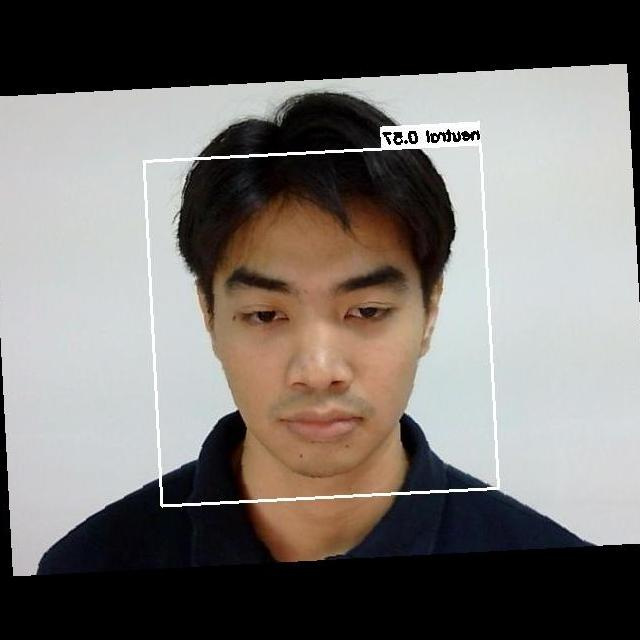Natural: (209, 241, 421, 471)
